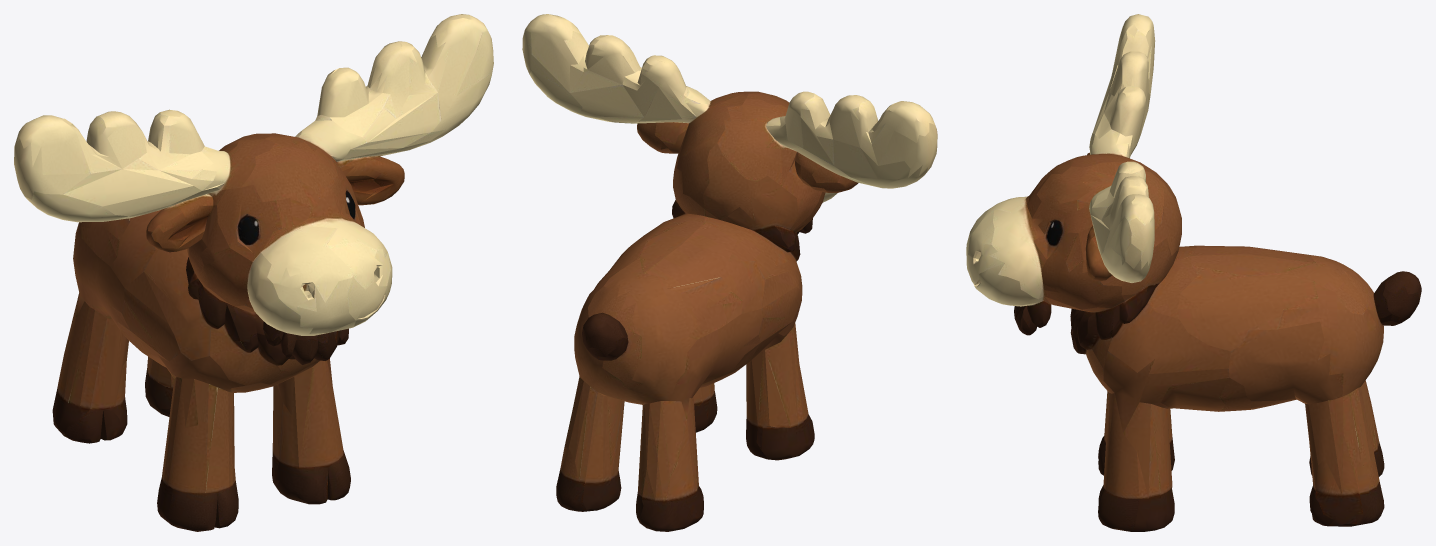
File: sne-elg.glb
The picture shows the model from 3 angles, left to right: view 1: azimuth 30°, elevation 25°; view 2: azimuth 150°, elevation 25°; view 3: azimuth 270°, elevation 25°; orthographic projection. The views are drawn at different scales.
Size of the model in its own units: 1.9 by 1.68 by 1.77.
Materials: 1 (1 with a texture image).
